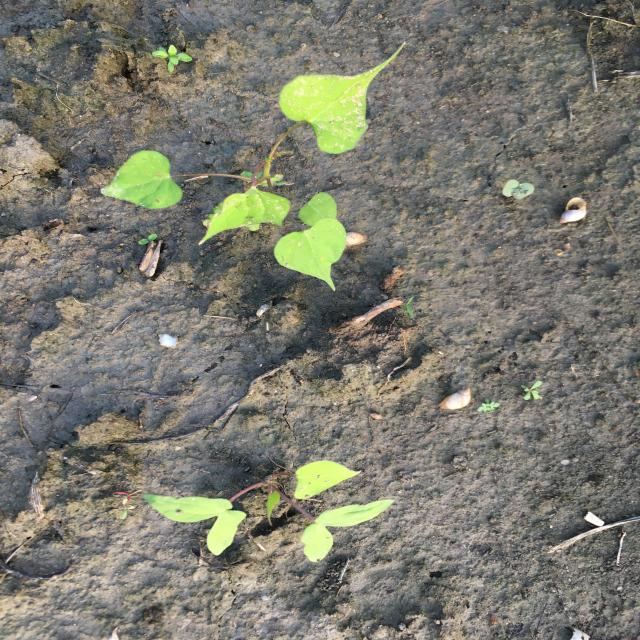MorningGlory: (98, 41, 410, 294), (137, 460, 398, 564)
